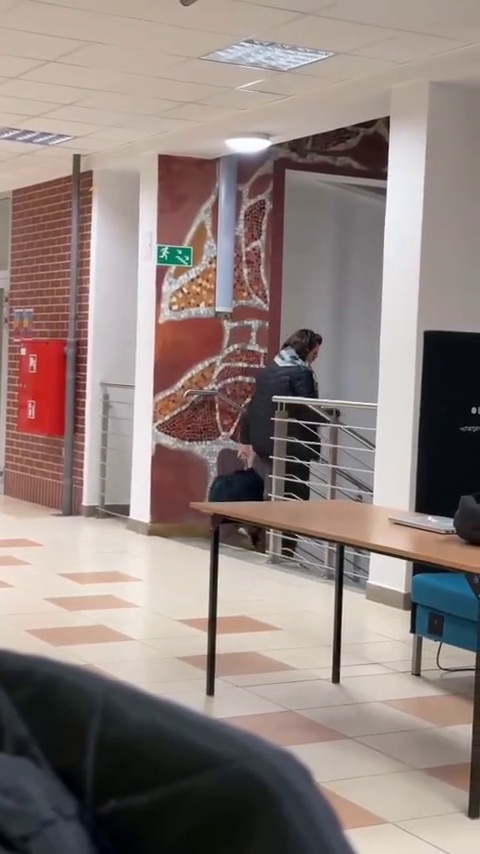no vest: (237, 321, 330, 556)
